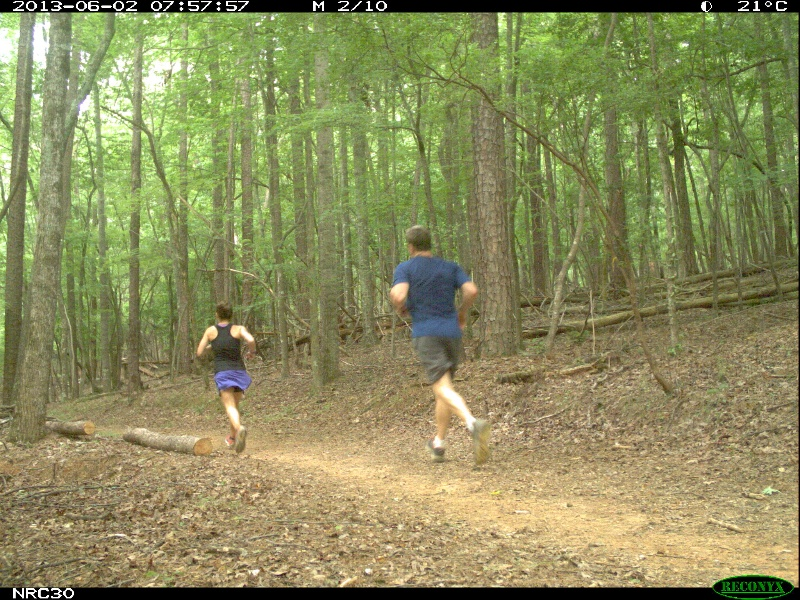human: (385, 218, 497, 480), (194, 299, 262, 458)
human legs: (412, 339, 494, 472), (212, 373, 254, 454)
